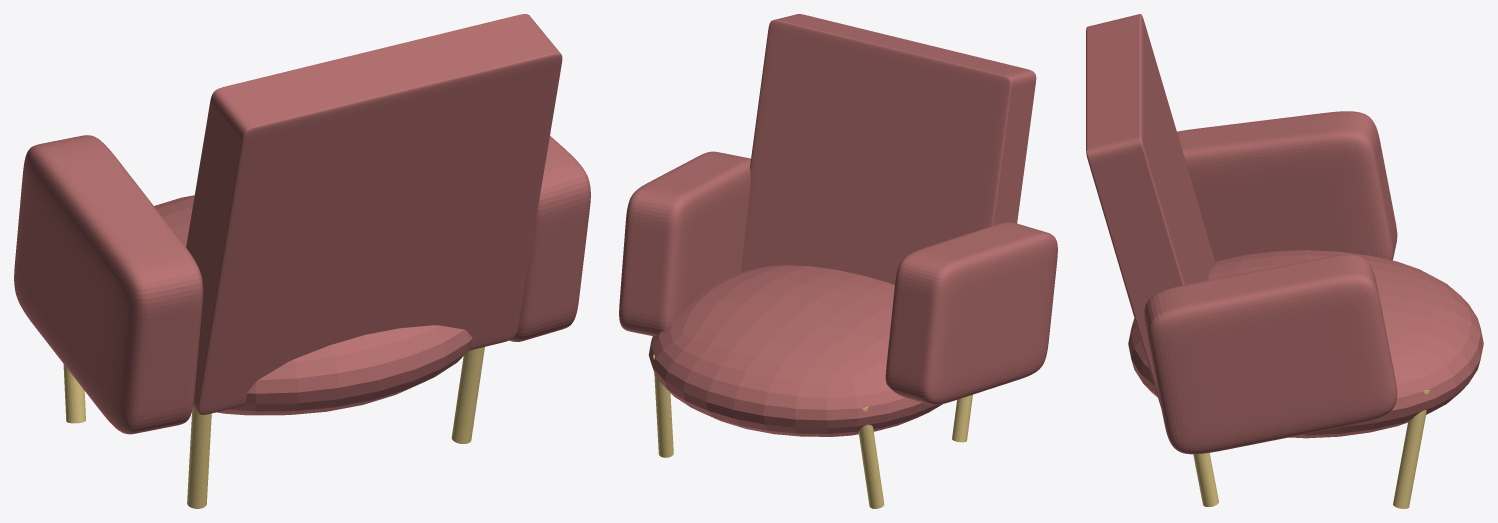
3 renders of one model, left to right at view 1: azimuth 30°, elevation 25°; view 2: azimuth 150°, elevation 25°; view 3: azimuth 270°, elevation 25°, orthographic. The views are drawn at different scales.
Parts seen in each view (by area): view 1: Backrest, Left_Armrest, Seat_Cushion, Right_Armrest, Back_Left_Leg, Back_Right_Leg, Front_Left_Leg; view 2: Backrest, Seat_Cushion, Left_Armrest, Right_Armrest, Front_Left_Leg, Front_Right_Leg, Back_Left_Leg; view 3: Right_Armrest, Left_Armrest, Backrest, Seat_Cushion, Front_Right_Leg, Back_Right_Leg.
Boxes of the visible parts, x1=… form: Backrest: x1=186, y1=14, x2=562, y2=414; Left_Armrest: x1=14, y1=135, x2=203, y2=434; Seat_Cushion: x1=154, y1=195, x2=472, y2=415; Right_Armrest: x1=509, y1=136, x2=590, y2=341; Back_Left_Leg: x1=187, y1=407, x2=211, y2=508; Back_Right_Leg: x1=451, y1=347, x2=484, y2=443; Front_Left_Leg: x1=63, y1=364, x2=85, y2=423; Backrest: x1=741, y1=14, x2=1036, y2=284; Seat_Cushion: x1=648, y1=265, x2=942, y2=436; Left_Armrest: x1=885, y1=222, x2=1057, y2=404; Right_Armrest: x1=619, y1=151, x2=750, y2=335; Front_Left_Leg: x1=858, y1=406, x2=884, y2=508; Front_Right_Leg: x1=653, y1=354, x2=673, y2=457; Back_Left_Leg: x1=952, y1=394, x2=972, y2=442; Right_Armrest: x1=1144, y1=254, x2=1397, y2=454; Left_Armrest: x1=1177, y1=111, x2=1397, y2=261; Backrest: x1=1086, y1=14, x2=1214, y2=406; Seat_Cushion: x1=1128, y1=250, x2=1483, y2=438; Front_Right_Leg: x1=1393, y1=390, x2=1429, y2=508; Back_Right_Leg: x1=1193, y1=453, x2=1218, y2=506.
Bounding box in the file's own units: 1.87 × 1.76 × 1.69.
